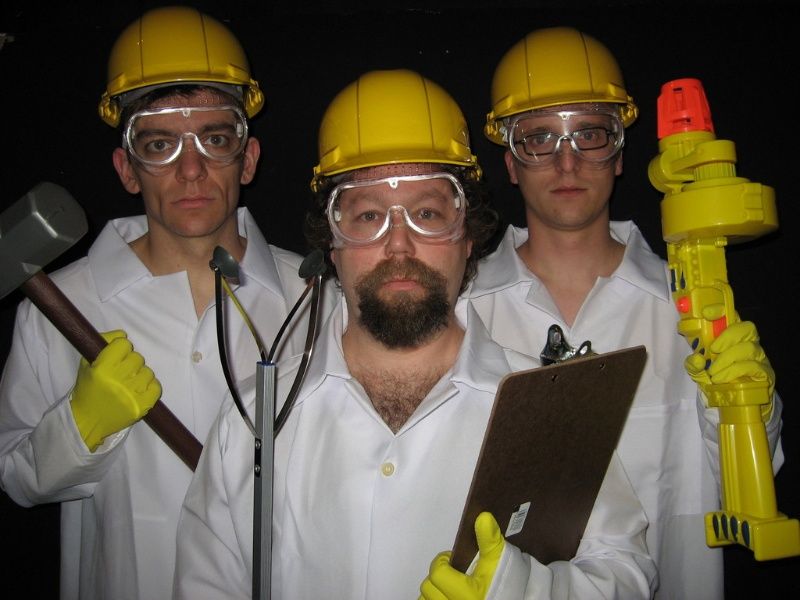helmet: (305, 69, 489, 173), (94, 13, 263, 117), (492, 29, 636, 123)
